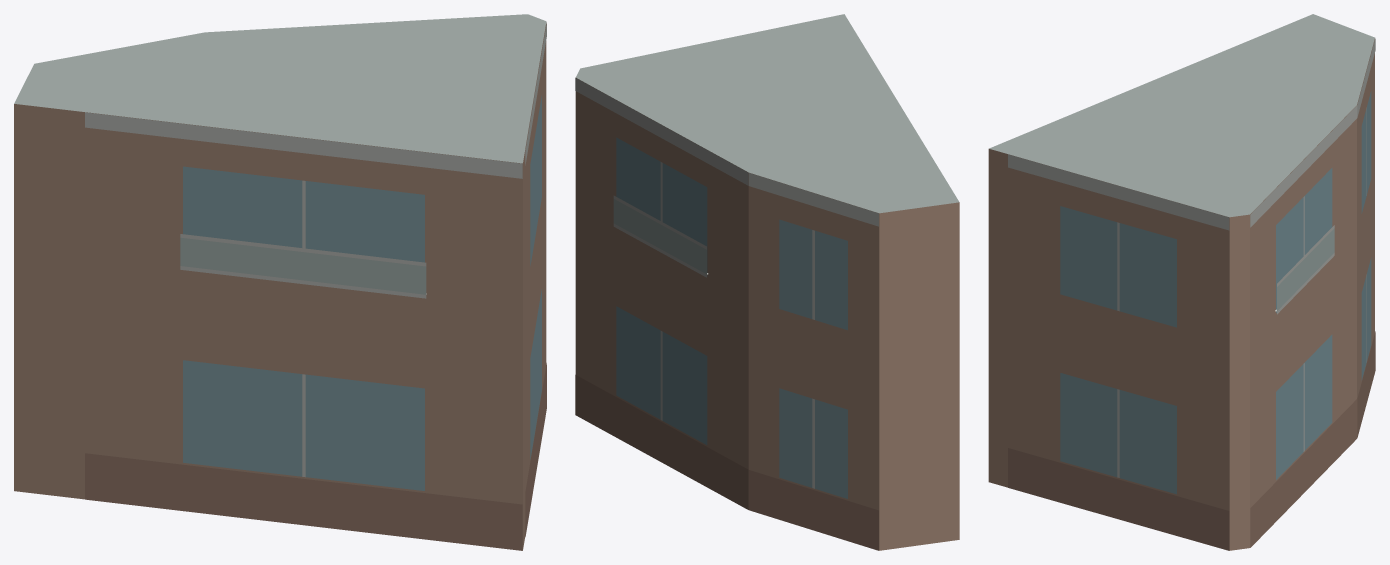
The model's file is survey-upis-33008249.glb.
3 renders of one model, left to right at view 1: azimuth 30°, elevation 25°; view 2: azimuth 150°, elevation 25°; view 3: azimuth 270°, elevation 25°, orthographic. The views are drawn at different scales.
Visible parts, largest first — view 1: survey-upis-33008249.tmp; view 2: survey-upis-33008249.tmp; view 3: survey-upis-33008249.tmp.
Boxes of the visible parts, x1,y1,x2,y2 form: survey-upis-33008249.tmp: (14,14,546,550); survey-upis-33008249.tmp: (575,14,959,550); survey-upis-33008249.tmp: (988,14,1375,550).
Size of the model in its own units: 7.98 by 6.1 by 6.41.
